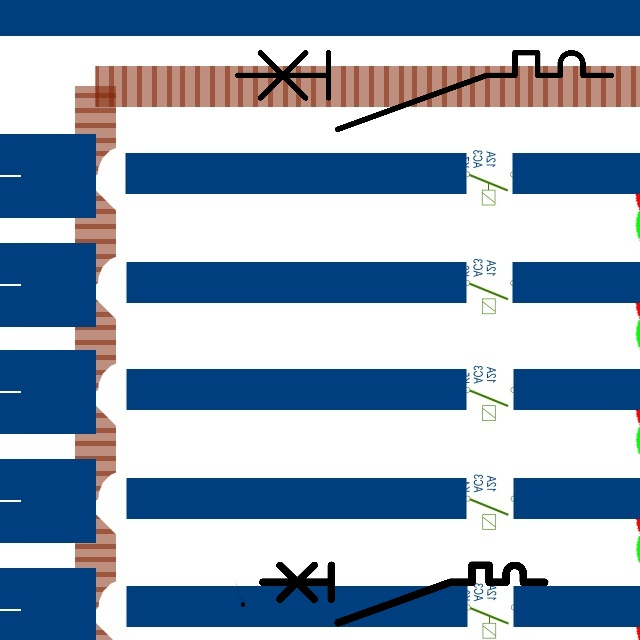interruptor_termomagnetico: (228, 43, 621, 139), (255, 558, 551, 630)
